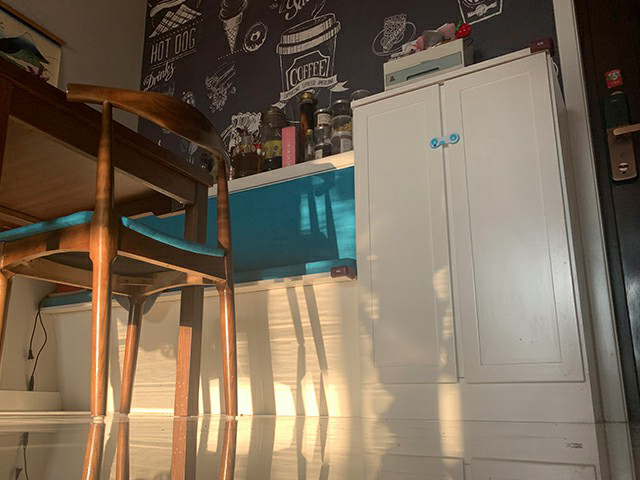cabinet: (348, 37, 604, 425)
stool: (1, 83, 237, 419)
table: (1, 54, 212, 418)
